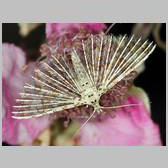Alucitidae: (7, 29, 155, 132)
moth: (9, 31, 157, 134)
